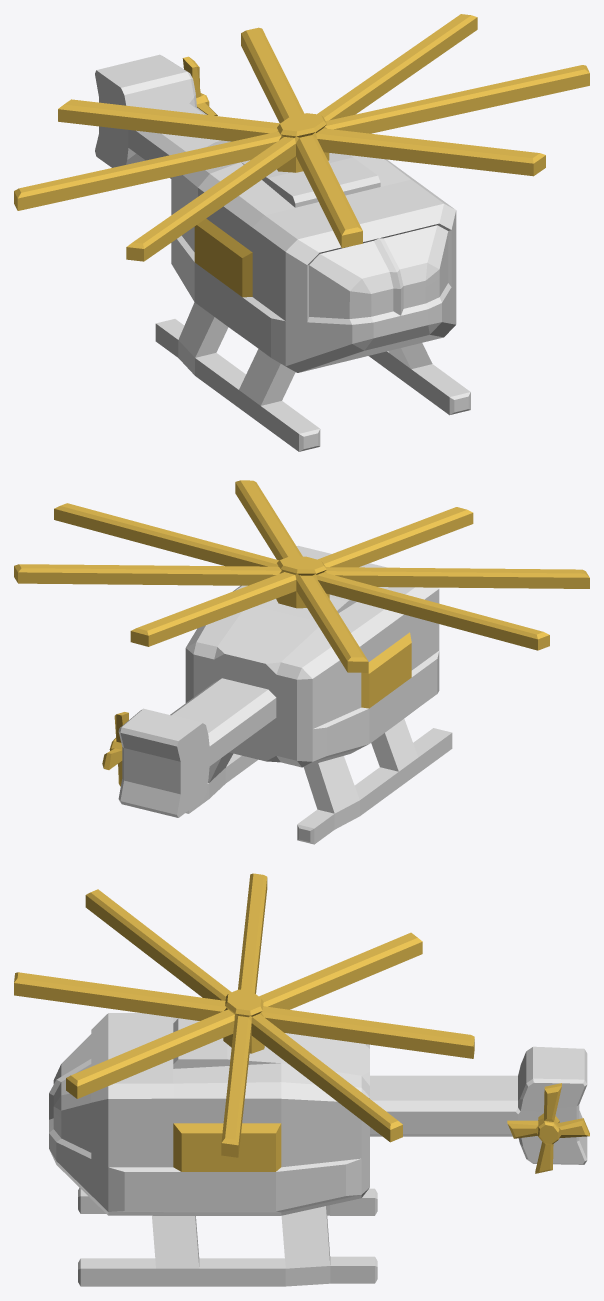
Rendered from Heli.fbx.
3 renders of one model, top to bottom at view 1: azimuth 30°, elevation 25°; view 2: azimuth 150°, elevation 25°; view 3: azimuth 270°, elevation 25°, orthographic. The views are drawn at different scales.
Visible parts, largest first — view 1: Heli, Rotor, Back Rotor; view 2: Heli, Rotor, Back Rotor; view 3: Heli, Rotor, Back Rotor.
Part boxes in pixels (bbox=[...]): Heli: bbox=[95, 54, 470, 451]; Rotor: bbox=[14, 14, 589, 261]; Back Rotor: bbox=[182, 56, 217, 115]; Heli: bbox=[118, 545, 452, 844]; Rotor: bbox=[14, 480, 589, 672]; Back Rotor: bbox=[102, 712, 128, 786]; Heli: bbox=[49, 1013, 587, 1286]; Rotor: bbox=[14, 873, 474, 1157]; Back Rotor: bbox=[507, 1083, 589, 1173].
Bounding box in the file's own units: 987 × 416 × 886.
